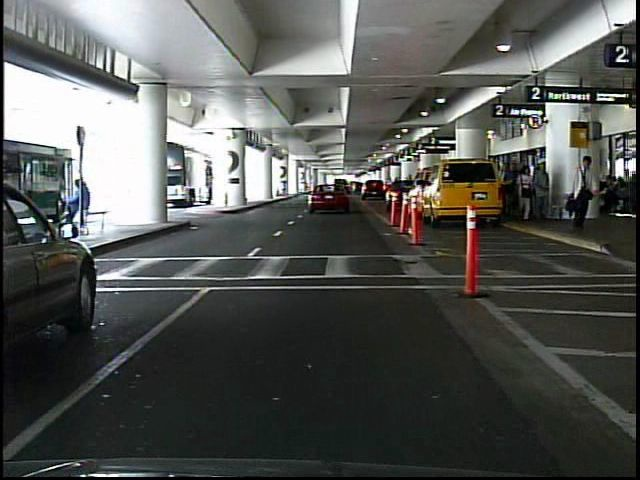person: (564, 156, 596, 232), (533, 162, 553, 220), (515, 163, 533, 223)
